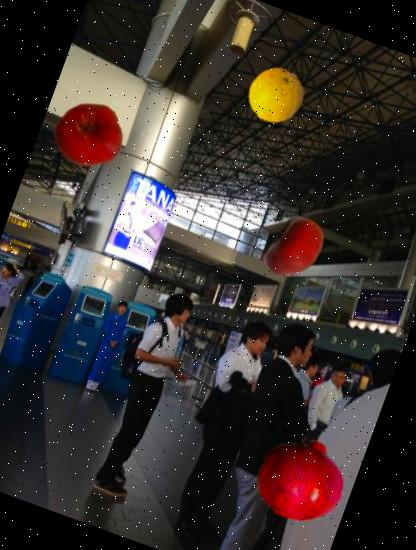Cantaloupe: (240, 60, 312, 132)
Nectarine: (45, 92, 132, 179), (252, 206, 338, 292)
Pomegranate: (245, 423, 358, 536)
